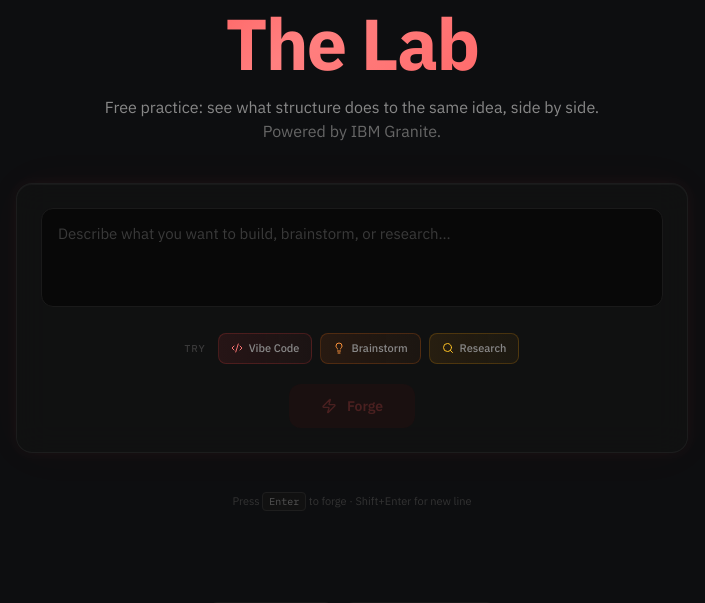
Scenario: ForgeApp › shows loading state after submitting
The width and height of the screenshot is (705, 603).
Type "build me a habit tracker" into the text box named "prompt input" at {"x": 352, "y": 258}, box [41,208,663,307]
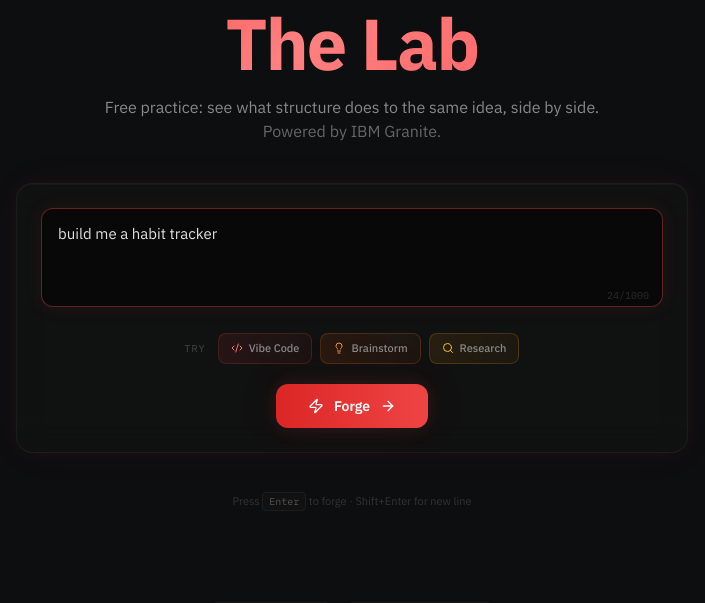
Click the button "Forge" at {"x": 352, "y": 406}, box [276,384,428,428]
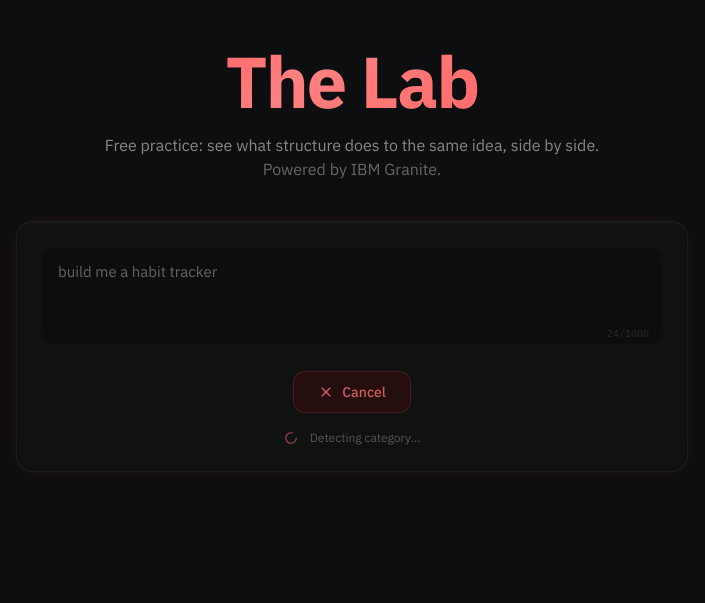
Expected: the button "Cancel" is shown, [293,370,411,412]
